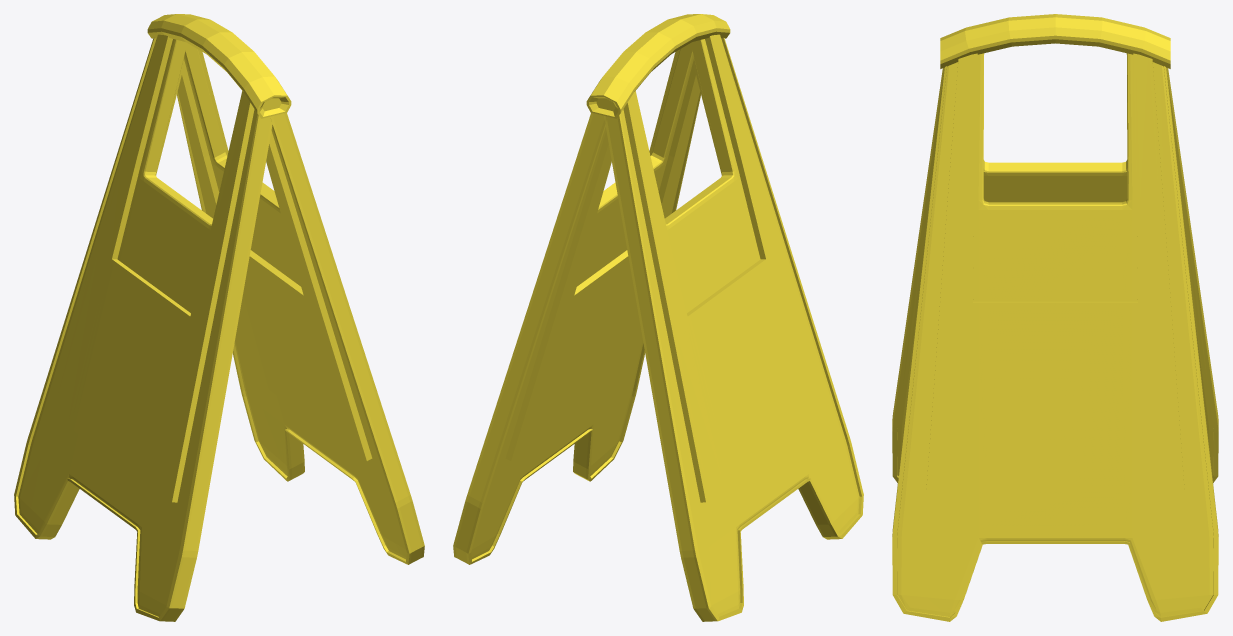
File: WetFloorSign.dae
3 views of the same model, side by side, from view 1: azimuth 30°, elevation 25°; view 2: azimuth 150°, elevation 25°; view 3: azimuth 270°, elevation 25° (orthographic). The views are drawn at different scales.
Parts seen in each view (by area): view 1: wetsign; view 2: wetsign; view 3: wetsign.
Boxes of the visible parts, x1,y1,x2,y2 form: wetsign: [14, 14, 424, 621]; wetsign: [453, 14, 863, 621]; wetsign: [892, 14, 1218, 621].
Bounding box in the file's own units: 0.3322 × 0.3344 × 0.6116.
